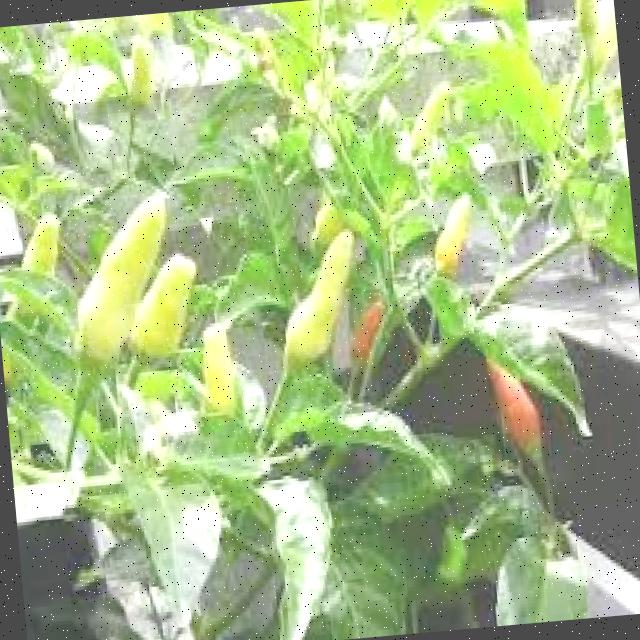healthy: (208, 437, 359, 640)
